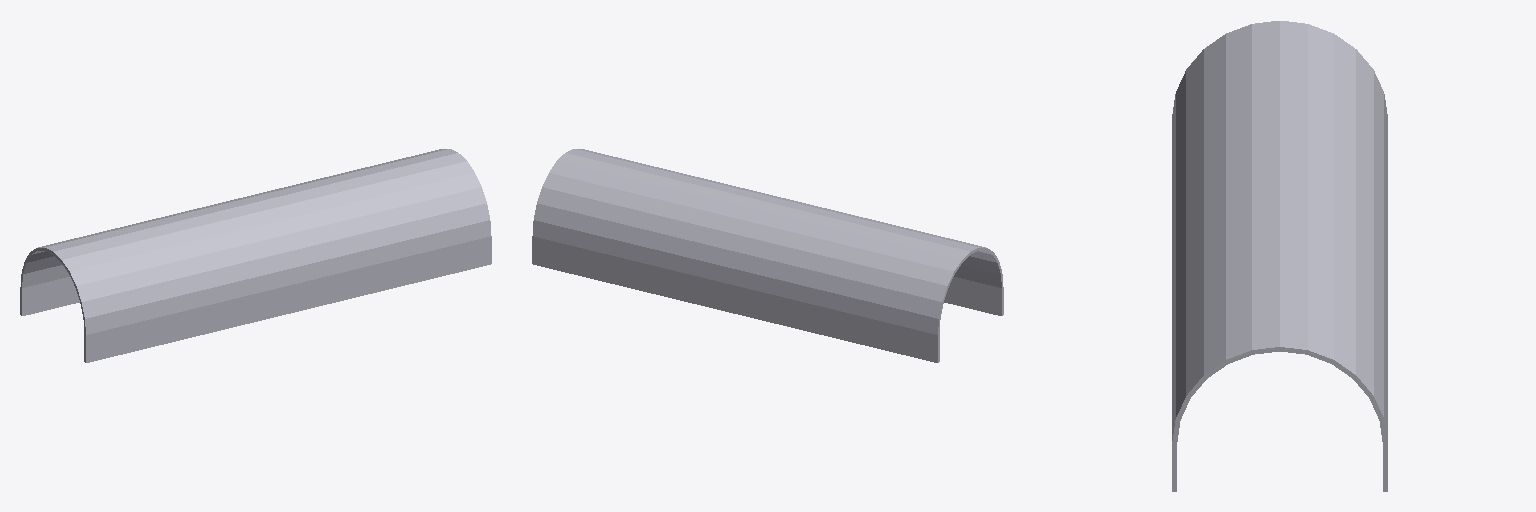
robot.urdf — Tunnel_Gazebo:
<?xml version="1.0" encoding="utf-8"?>
<!-- This URDF was automatically created by SolidWorks to URDF Exporter! Originally created by [author] ([email redacted])
     Commit Version: 1.5.1-0-g916b5db  Build Version: 1.5.7152.31018
     For more information, please see http://wiki.ros.org/sw_urdf_exporter -->
<robot
  name="Tunnel_Gazebo">
  <link
    name="Tunnel_Gazebo">
    <inertial>
      <origin
        xyz="15 0 0"
        rpy="0 0 0" />
      <mass
        value="100020" />
      <inertia
        ixx="351410"
        ixy="-1.08760000000004E-12"
        ixz="5.9917E-10"
        iyy="1966700"
        iyz="-5.08444540550824E-12"
        izz="2135400" />
    </inertial>
    <visual>
      <origin
        xyz="15 0 0"
        rpy="1.5707963267949 0 0" />
      <geometry>
        <mesh
          filename="package://tunnel_gazebo/meshes/Tunnel_Gazebo.STL" />
      </geometry>
      <material
        name="">
        <color
          rgba="0.77647 0.77647 0.81961 1" />
        <texture
          filename="package://tunnel_gazebo/textures/" />
      </material>
    </visual>
    <collision>
      <origin
        xyz="15 0 0"
        rpy="1.5707963267949 0 0" />
      <geometry>
        <mesh
          filename="package://tunnel_gazebo/meshes/Tunnel_Gazebo.STL" />
      </geometry>
    </collision>
  </link>
</robot>

--- What the picture shows (computed from the rendered views, not written in the file) ---
3 views of the same robot in one strip: view 1: azimuth 30°, elevation 25°; view 2: azimuth 150°, elevation 25°; view 3: azimuth 270°, elevation 25° (orthographic).
Model Tunnel_Gazebo with 1 links and 0 joints (none), rooted at Tunnel_Gazebo, posed all joints at 0.
Visible links, largest first — view 1: Tunnel_Gazebo; view 2: Tunnel_Gazebo; view 3: Tunnel_Gazebo.
Link boxes in pixels (left/top/right/bottom): Tunnel_Gazebo: left=20, top=149, right=491, bottom=362; Tunnel_Gazebo: left=532, top=149, right=1003, bottom=362; Tunnel_Gazebo: left=1172, top=21, right=1387, bottom=491.
Bounding box of the posed robot: 15 × 4.2 × 3.1 m (x, y, z).
1 mesh visuals loaded from 1 distinct referenced files (1 binary STL).